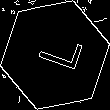L_W: (27, 32, 83, 78)
